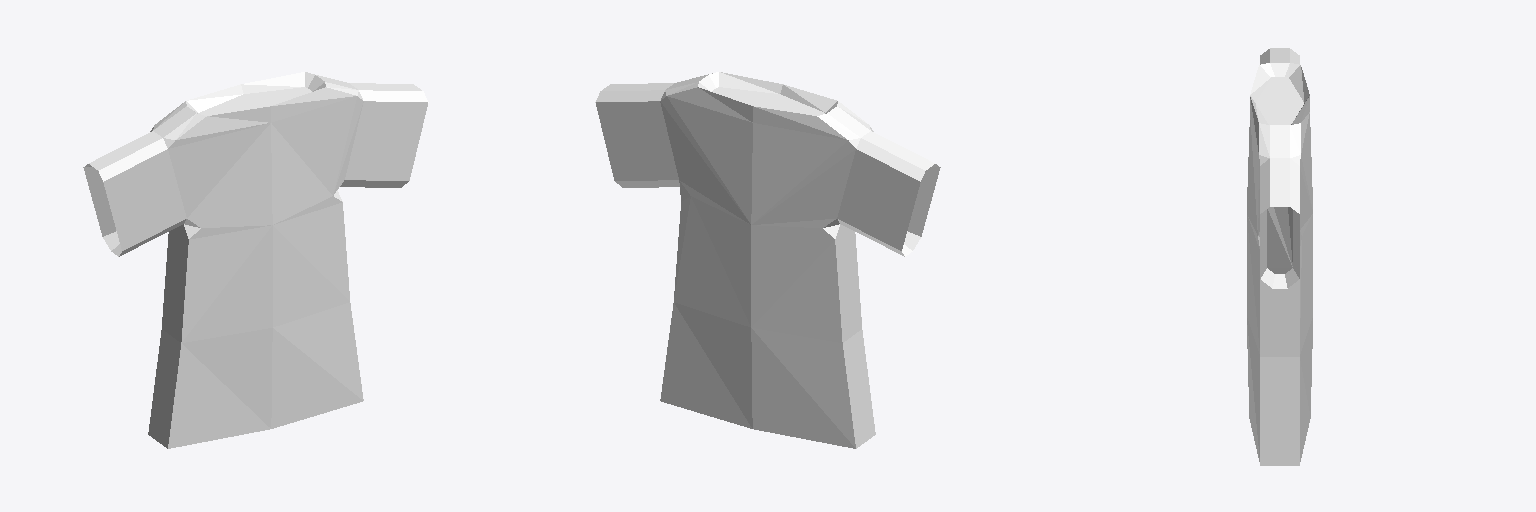
File: Shirt.obj
3 views of the same model, side by side, from view 1: azimuth 30°, elevation 25°; view 2: azimuth 150°, elevation 25°; view 3: azimuth 270°, elevation 25° (orthographic).
Visible parts, largest first — view 1: Cube1; view 2: Cube1; view 3: Cube1.
Boxes of the visible parts, x1,y1,x2,y2 form: Cube1: [83, 72, 428, 448]; Cube1: [595, 72, 940, 448]; Cube1: [1247, 48, 1312, 465].
Bounding box in the file's own units: 3.32 × 3.16 × 0.5901.